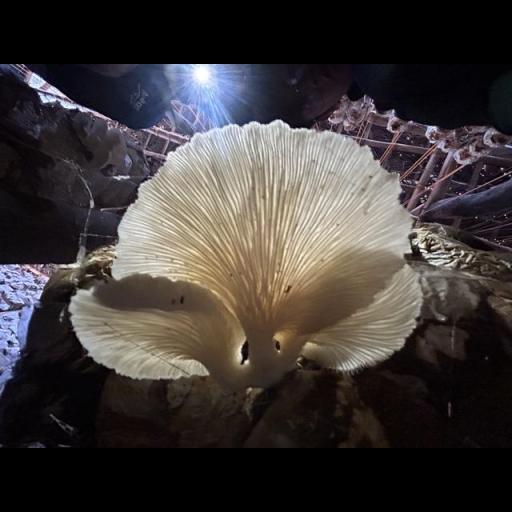White Oyster Mushroom: (65, 112, 433, 399)
